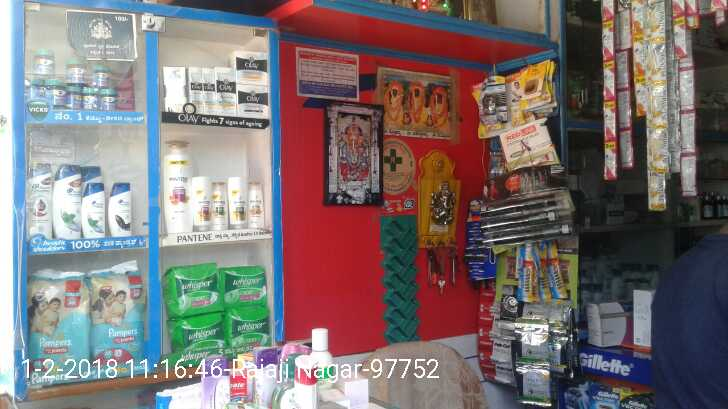beauty: (164, 134, 192, 237), (31, 159, 55, 246), (54, 163, 81, 237), (104, 178, 131, 234), (235, 83, 273, 122), (241, 179, 268, 231), (84, 182, 107, 239), (232, 51, 270, 83), (189, 173, 209, 229), (217, 66, 236, 116), (210, 180, 229, 227), (227, 173, 242, 224), (202, 67, 216, 119), (188, 70, 204, 113)
pharmacy: (27, 273, 93, 379), (89, 273, 145, 372), (168, 263, 221, 312), (169, 312, 224, 356), (223, 267, 266, 307), (227, 312, 269, 347), (31, 44, 57, 78), (47, 77, 66, 111), (61, 60, 86, 85), (91, 66, 114, 92), (67, 84, 84, 110), (83, 87, 98, 110), (103, 90, 115, 112)
